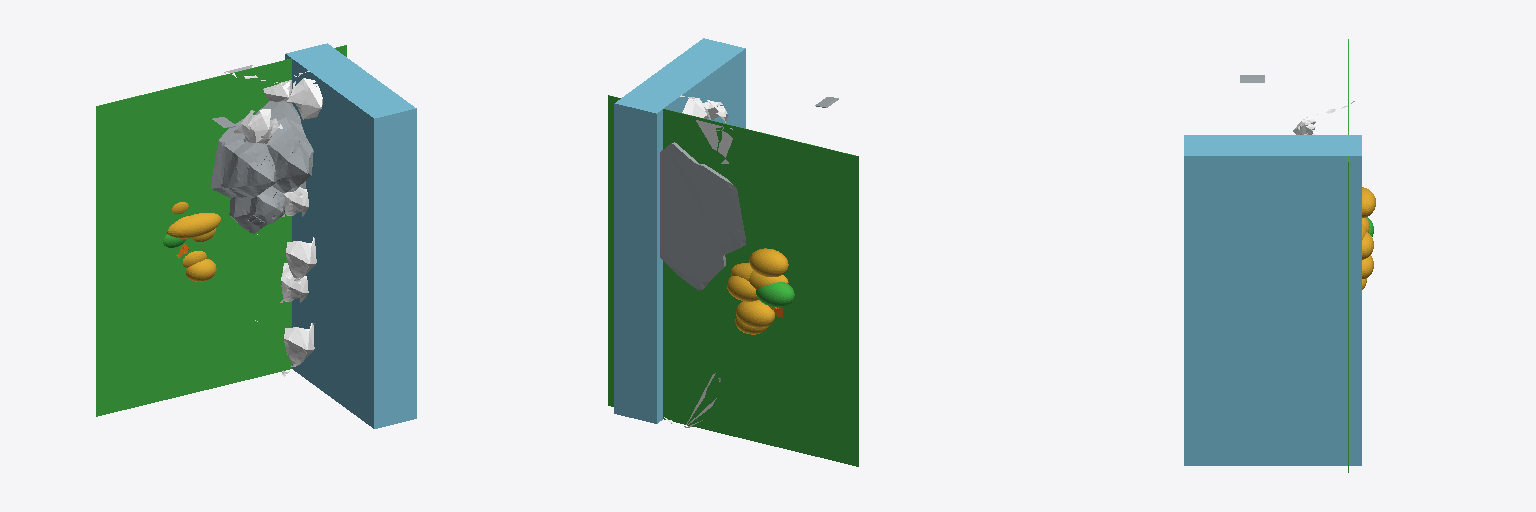
Rendered from tinker.obj.
3 renders of one model, left to right at view 1: azimuth 30°, elevation 25°; view 2: azimuth 150°, elevation 25°; view 3: azimuth 270°, elevation 25°, orthographic.
Visible parts, largest first — view 1: obj_0; view 2: obj_0; view 3: obj_0.
Part boxes in pixels (bbox=[...]): obj_0: bbox=[96, 43, 416, 428]; obj_0: bbox=[608, 38, 858, 466]; obj_0: bbox=[1184, 39, 1375, 472].
Size of the model in its own units: 845 by 998 by 560.